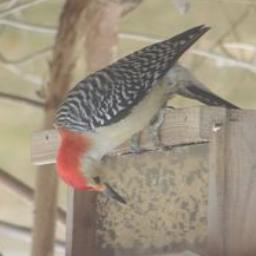Woodpecker: (47, 31, 230, 206)
